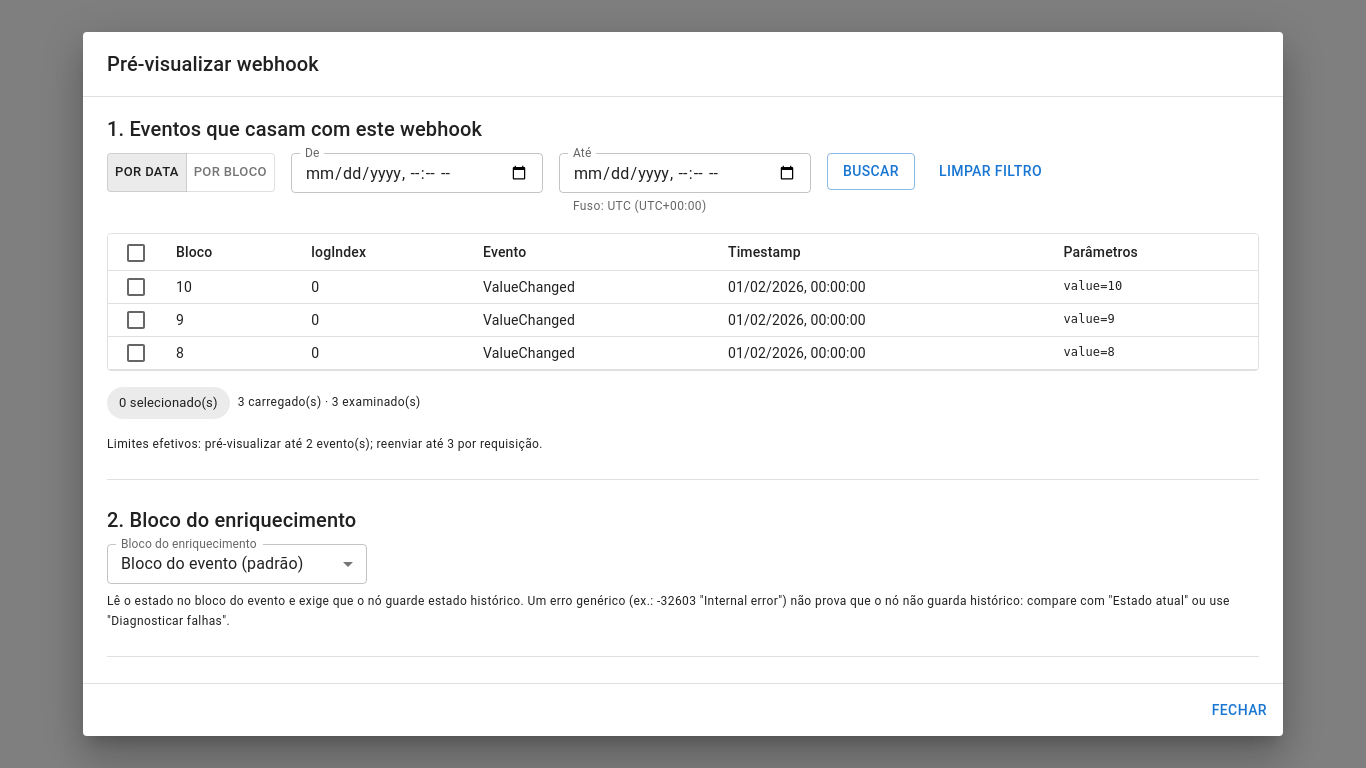
Test: WebhookResendDialog — seletor de eventos › seleção múltipla, "selecionar todos" e contador; avisa ao passar dos limites de capabilities
What coordinates should you click on to do the following:
click the checkbox named "selecionar evento do bloco 10 "
I would click on:
 (136, 287)
Its box is [124,275,148,299].
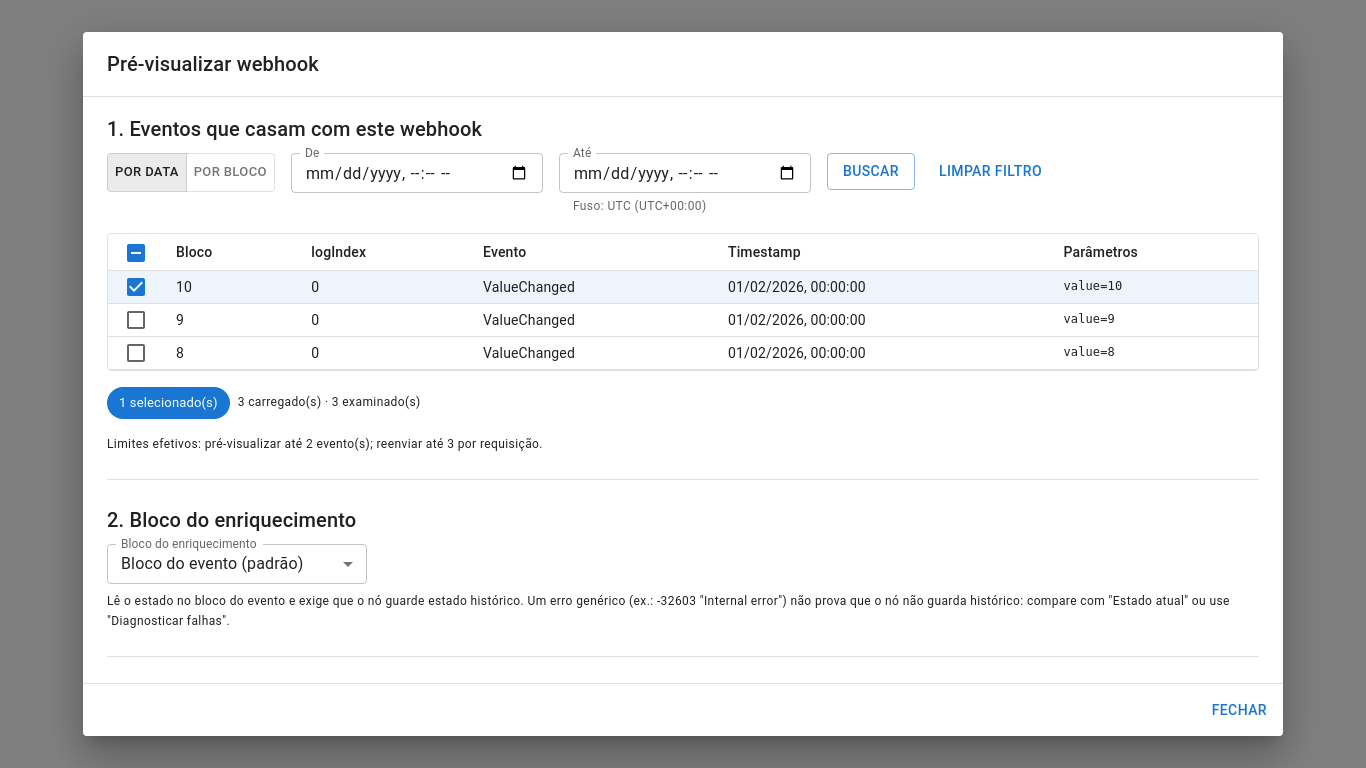
Expected: the text "1 selecionado(s)" is shown, [119,395,218,410]
What coordinates should you click on to do the following:
click the checkbox named "selecionar todos os eventos carregados"
I would click on:
 (136, 252)
Its box is [124,240,148,264].
(page scrolled)
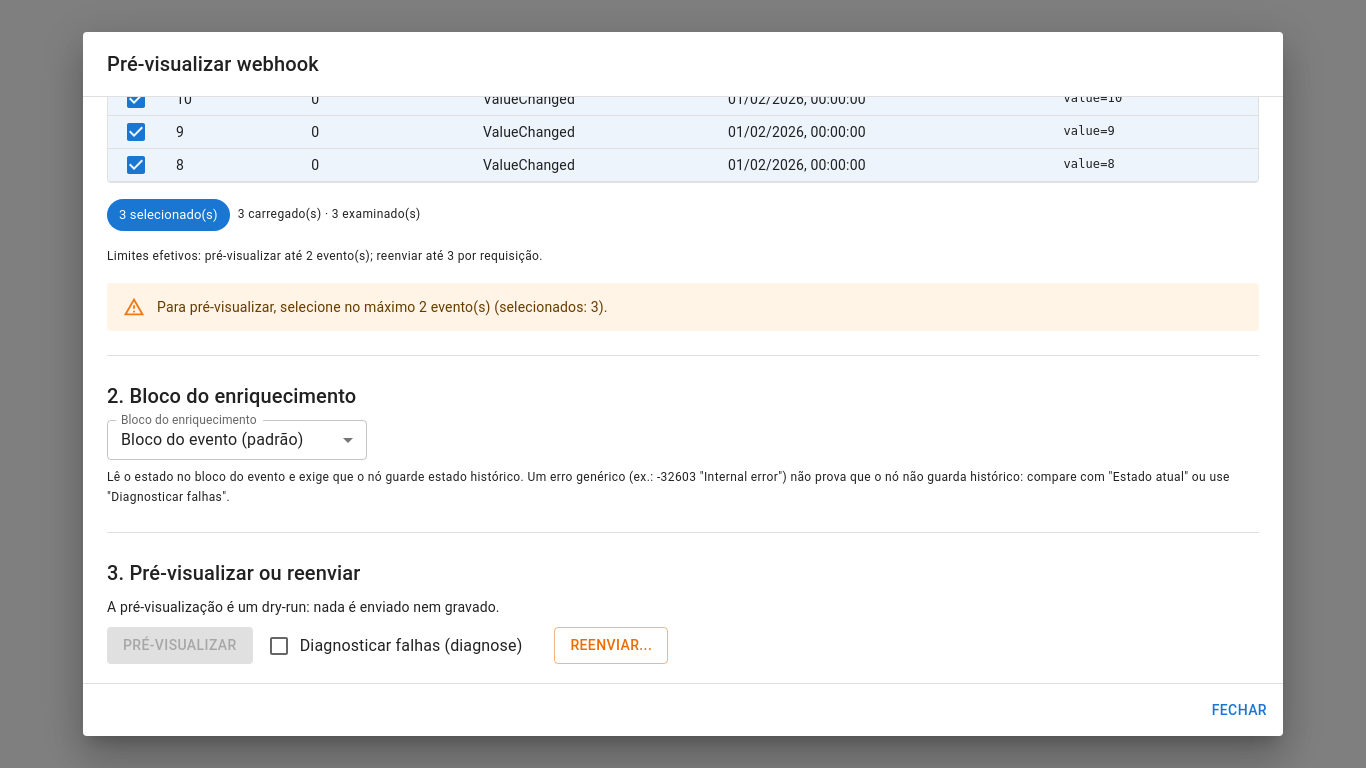
Expected: the text "3 selecionado(s)" is shown, [119,207,218,222]
Expected: the text "Para pré-visualizar, selecione no máximo 2" is shown, [157,299,608,315]
Expected: the button "Pré-visualizar" is disabled, [107,628,253,664]
